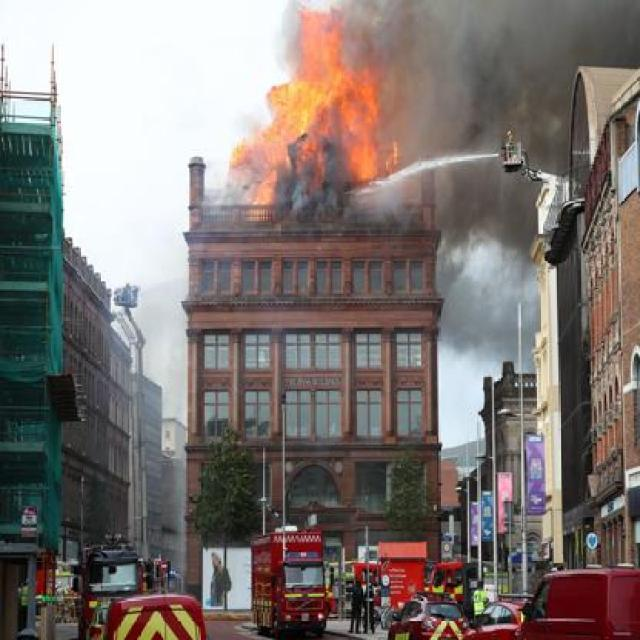Fire: (239, 2, 409, 226)
